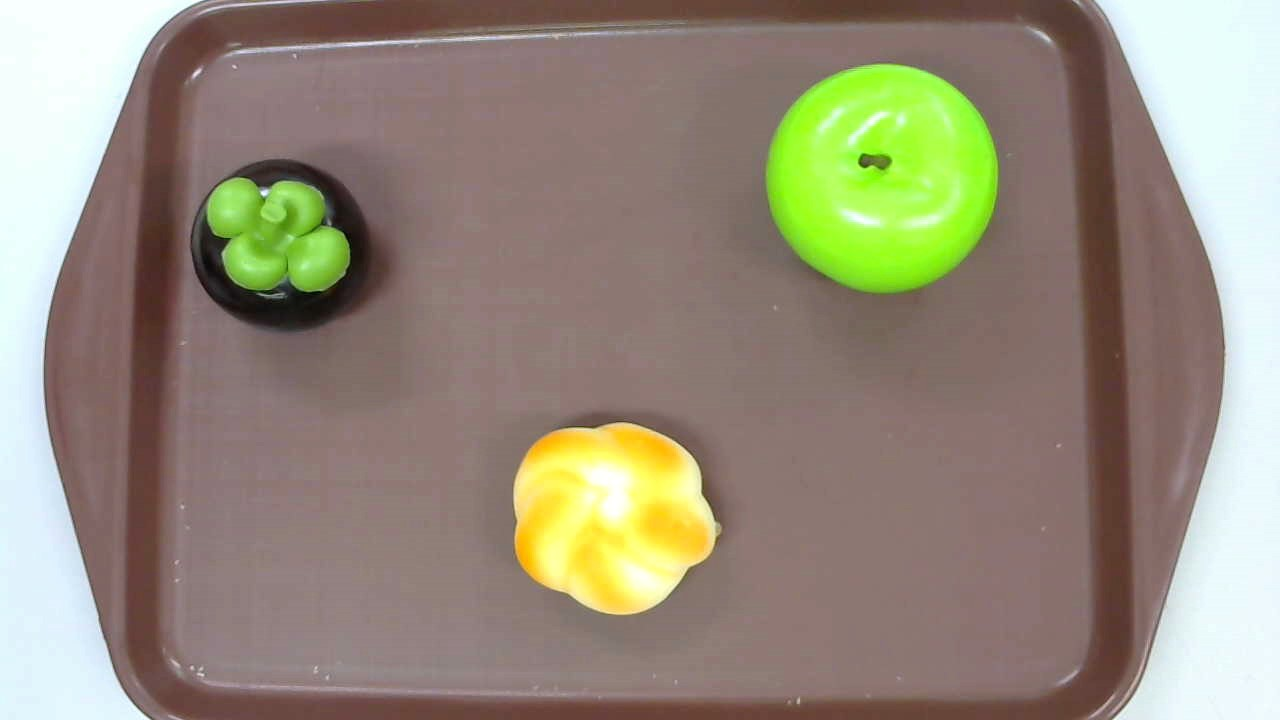green apple: (766, 64, 997, 294)
mangosteen: (186, 159, 374, 334)
twist bread: (512, 422, 722, 614)
